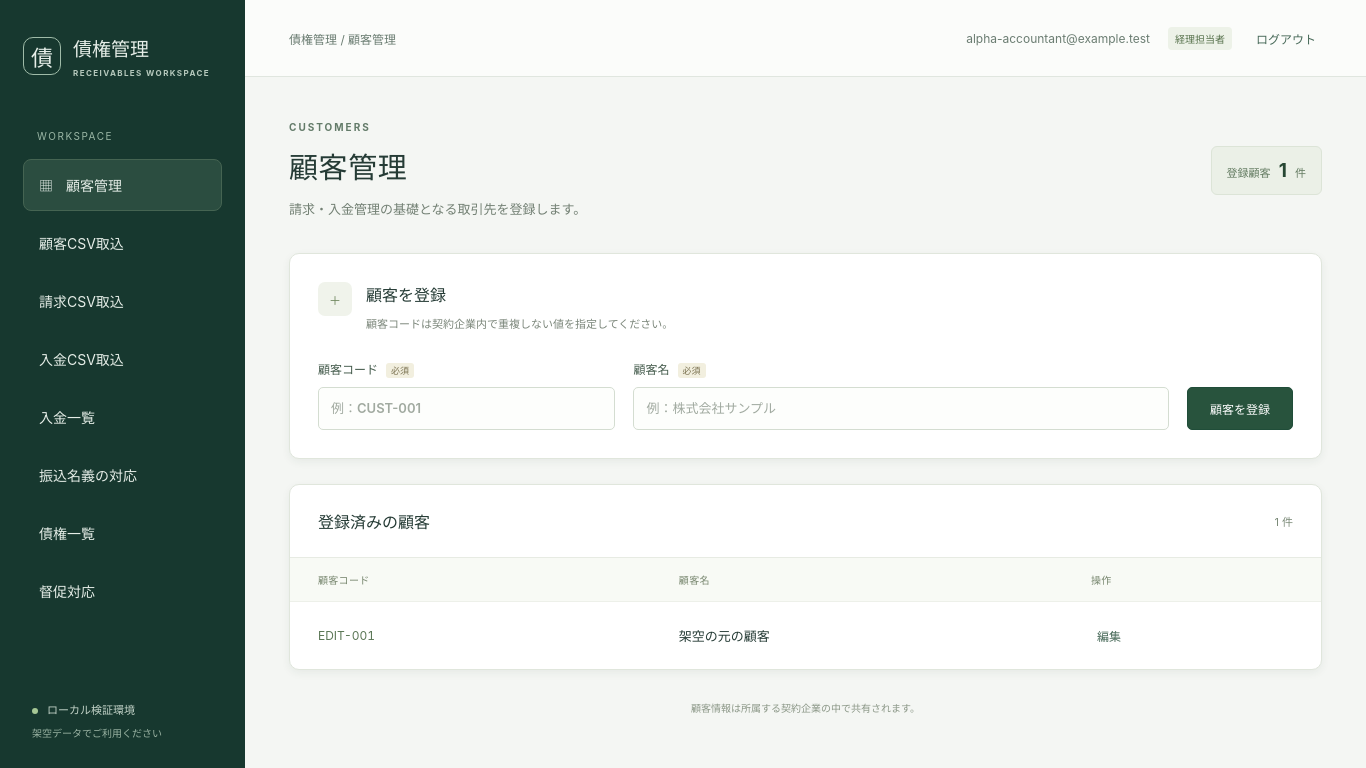
Test: Versioned customer editing › clears the workspace after session expiry {"status":401,"code":"UNAUTHENTICATED"}
This screenshot has width=1366, height=768.
Click the button with aria-label "顧客 EDIT-001 を編集" at (1109, 635), box [1091,621,1127,650]
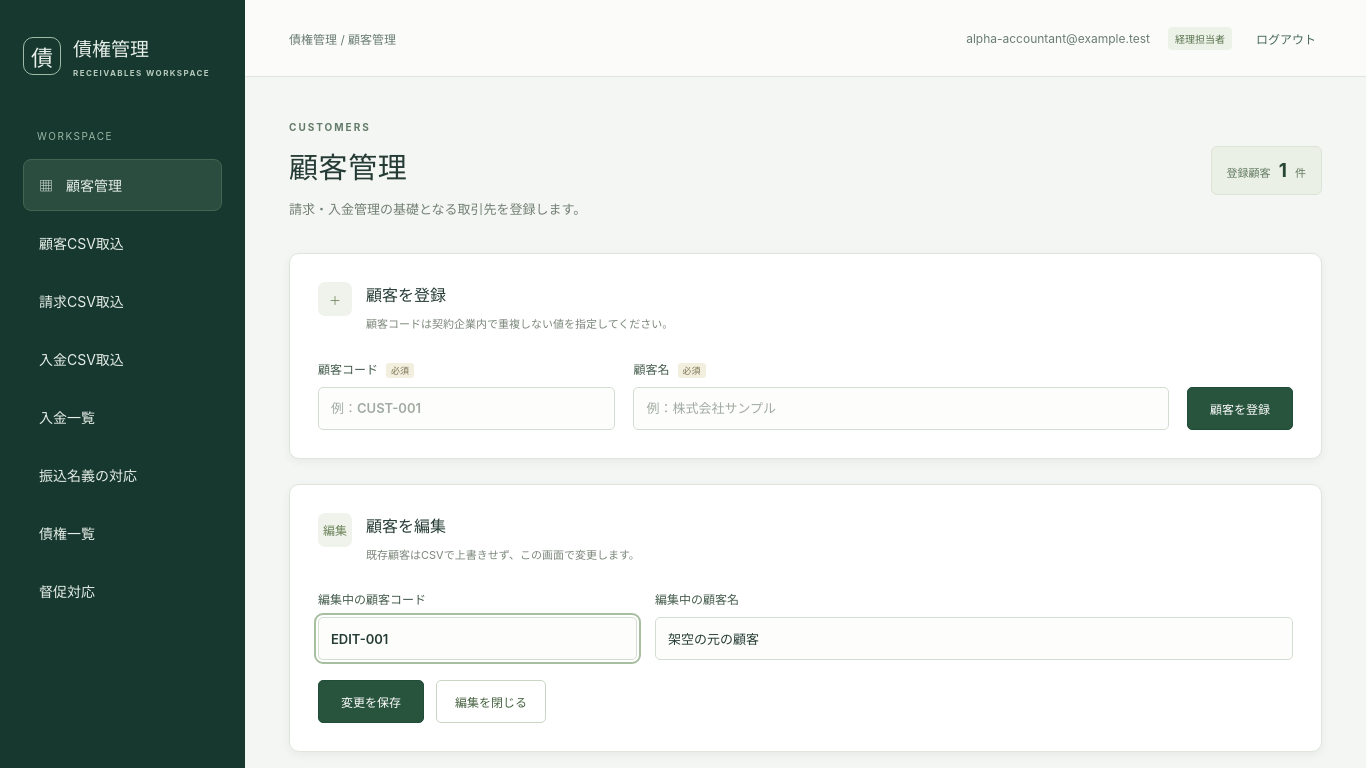
Click the button "変更を保存" at (371, 702), box [318,680,424,724]
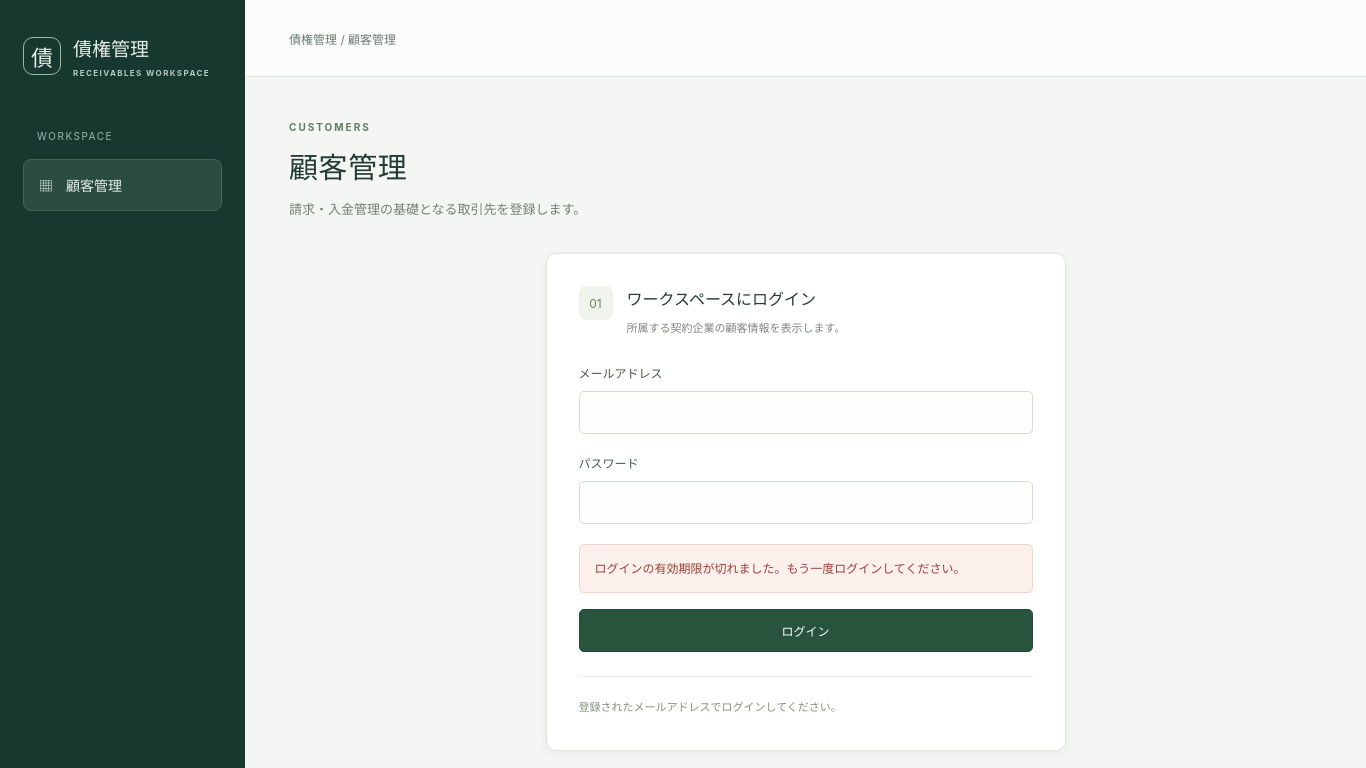
Now the message shows "ログインの有効期限が切れました", box [594,561,965,576]
Now the password field labelled "パスワード" is empty, box [578,481,1032,524]
